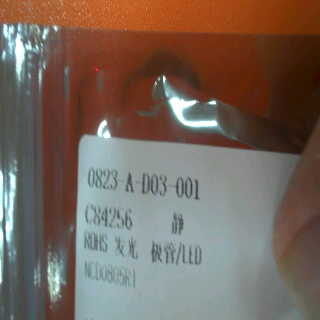LED: (111, 234, 211, 268)
